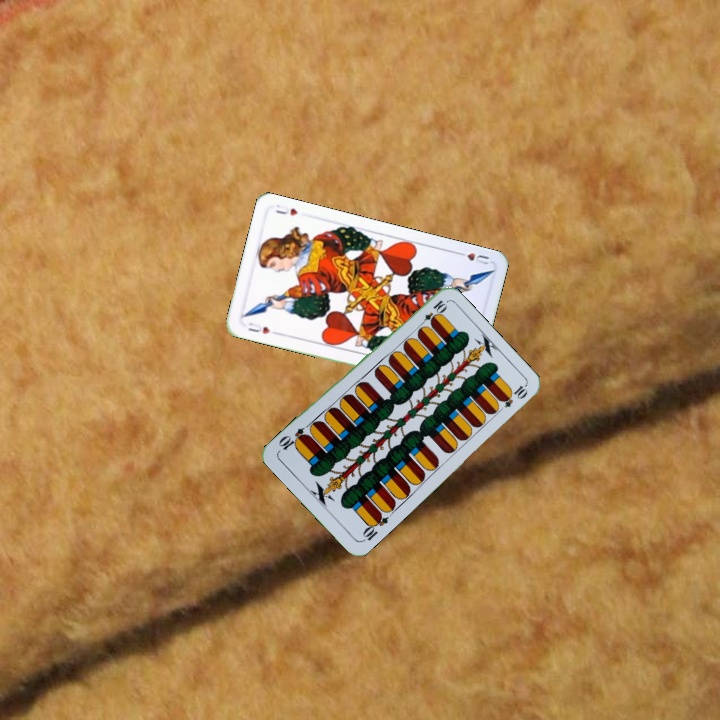E10: (415, 296, 449, 330), (358, 509, 391, 544)
HU: (452, 248, 491, 268), (244, 318, 273, 337)
